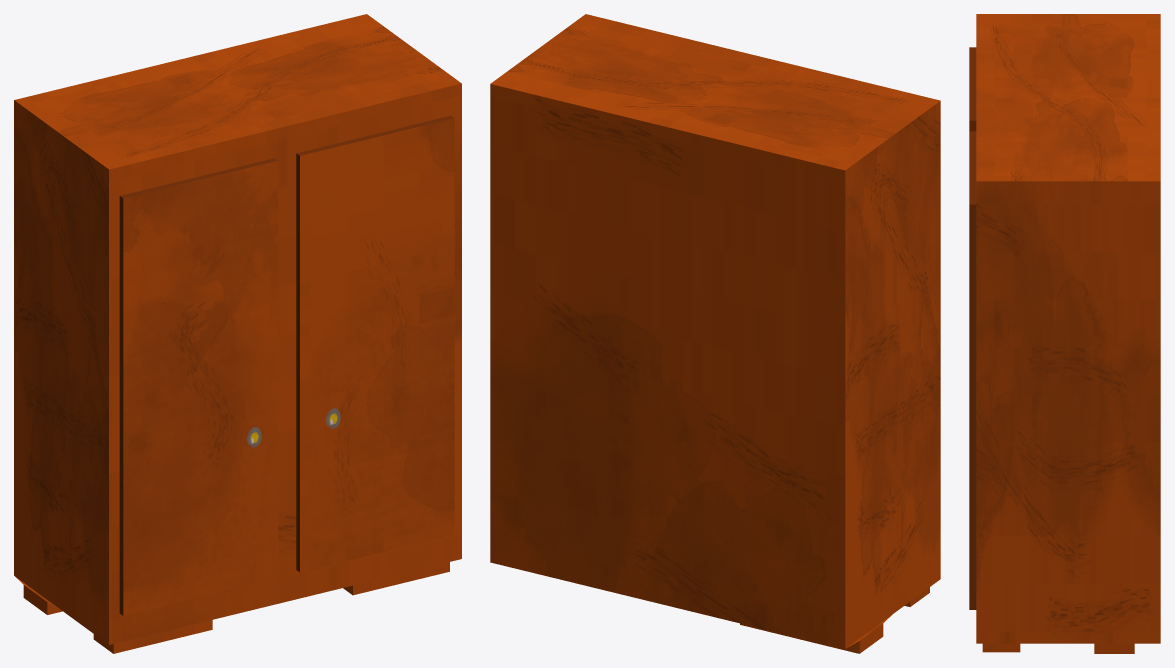
File: wardrobe1.fbx
The picture shows the model from 3 angles, left to right: view 1: azimuth 30°, elevation 25°; view 2: azimuth 150°, elevation 25°; view 3: azimuth 270°, elevation 25°; orthographic projection. The views are drawn at different scales.
Parts seen in each view (by area): view 1: Cube.084, Cube.002, Cube.001; view 2: Cube.084; view 3: Cube.084, Cube.001, Cube.002.
Boxes of the visible parts, x1,y1,x2,y2 form: Cube.084: [14, 14, 461, 653]; Cube.002: [119, 158, 278, 615]; Cube.001: [296, 115, 454, 572]; Cube.084: [490, 14, 940, 653]; Cube.084: [976, 14, 1160, 653]; Cube.001: [969, 131, 976, 609]; Cube.002: [969, 47, 976, 131].
Size of the model in its own units: 593 by 780 by 285.
Materials: 4 (1 with a texture image).
